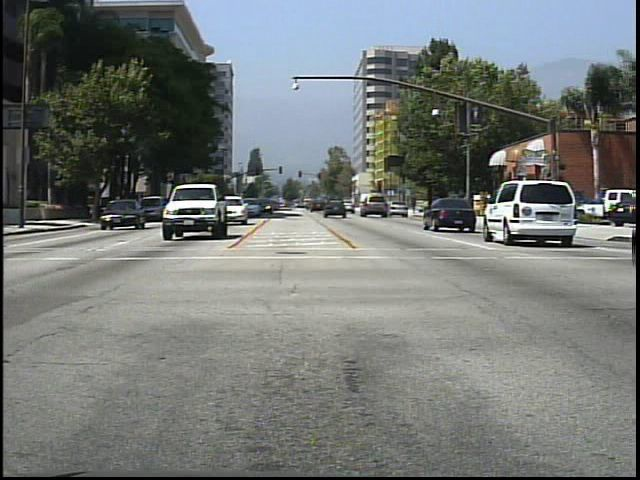person: (504, 191, 524, 230), (461, 191, 478, 226)
